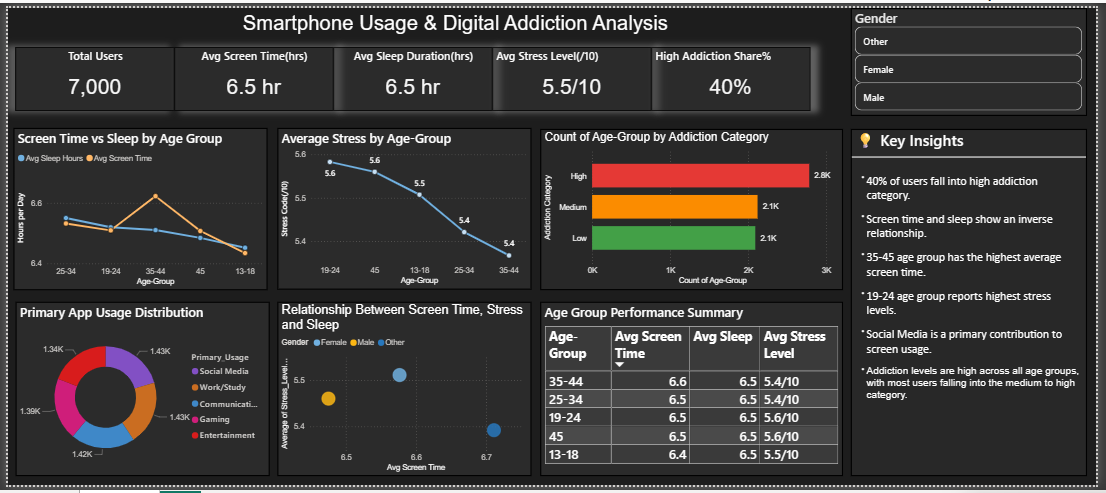

Layout of this report page (visuals, bound fields, positions):
{"tool":"powerbi","page":{"name":"Page 1","canvas":[1711,750],"ordinal":0},"visuals":[{"type":"textbox","box":[10,0,1386.7,61.7],"z":0},{"type":"card","title":"Total Users ","fields":{"Values":["Fact_SmartphoneUsage.Total Users"]},"box":[11.7,61.7,250,100],"z":1000},{"type":"card","title":"Avg Screen Time(hrs)","fields":{"Values":["Fact_SmartphoneUsage.Avg Screen Time"]},"box":[261.7,61.7,250,100],"z":2000},{"type":"card","title":"Avg Sleep Duration(hrs)","fields":{"Values":["Fact_SmartphoneUsage.Avg Sleep Hours"]},"box":[511.7,61.7,250,100],"z":3000},{"type":"card","title":"Avg Stress Level(/10)","fields":{"Values":["Fact_SmartphoneUsage.Avg Stress Level"]},"box":[761.7,61.7,250,100],"z":4000},{"type":"card","title":"High Addiction Share% ","fields":{"Values":["Fact_SmartphoneUsage.High Addiction %"]},"box":[1011.7,61.7,250,100],"z":5000},{"type":"lineChart","title":"Screen Time vs Sleep by Age Group","fields":{"Category":["Fact_SmartphoneUsage.Age-Group"],"Y":["Fact_SmartphoneUsage.Avg Sleep Hours","Fact_SmartphoneUsage.Avg Screen Time"]},"box":[8.3,187.6,400,255.7],"z":6000},{"type":"lineChart","fields":{"Category":["Fact_SmartphoneUsage.Age-Group"],"Y":["Fact_SmartphoneUsage.Avg Strees"]},"box":[423.3,188.3,400,255],"z":7000},{"type":"donutChart","title":"Primary App Usage Distribution","fields":{"Category":["Fact_SmartphoneUsage.Primary_Usage"],"Y":["CountNonNull(Fact_SmartphoneUsage.User_ID)"]},"box":[11.1,461.7,400,275],"z":8000},{"type":"tableEx","title":"Age Group Performance Summary","fields":{"Values":["Fact_SmartphoneUsage.Age-Group","Fact_SmartphoneUsage.Avg Screen Time","Fact_SmartphoneUsage.Avg Sleep Hours","Fact_SmartphoneUsage.Avg Stress Level"]},"box":[836.7,461.7,476.7,275],"z":9000},{"type":"advancedSlicerVisual","fields":{"Values":["Dim_Gender.Gender"]},"box":[1325,0,371.7,170],"z":10000},{"type":"textbox","title":"💡 Key Insights","box":[1325,190,371.7,546.7],"z":11000},{"type":"clusteredBarChart","fields":{"Category":["Fact_SmartphoneUsage.Addiction Category"],"Y":["CountNonNull(Fact_SmartphoneUsage.Age-Group)"]},"box":[836.7,190,476.7,253.3],"z":12000},{"type":"scatterChart","title":"Relationship Between Screen Time, Stress and Sleep","fields":{"X":["Fact_SmartphoneUsage.Avg Screen Time"],"Size":["Avg(Fact_SmartphoneUsage.Sleep_Hours)"],"Series":["Fact_SmartphoneUsage.Gender"],"Y":["Avg(Fact_SmartphoneUsage.Stress_Level_1_10)"]},"box":[423.3,461.7,400,275],"z":13000}]}

Visuals, with their boxes in screenshot pixels (x1, y1, x2, y2), scaled from the page's 1711x750 canvas onto the 1106x493 screenshot:
textbox: 6, 0, 903, 41
"Total Users " card: 8, 41, 169, 106
"Avg Screen Time(hrs)" card: 169, 41, 331, 106
"Avg Sleep Duration(hrs)" card: 331, 41, 492, 106
"Avg Stress Level(/10)" card: 492, 41, 654, 106
"High Addiction Share% " card: 654, 41, 816, 106
"Screen Time vs Sleep by Age Group" lineChart: 5, 123, 264, 291
lineChart - Fact_SmartphoneUsage.Age-Group x Fact_SmartphoneUsage.Avg Strees: 274, 124, 532, 291
"Primary App Usage Distribution" donutChart: 7, 303, 266, 484
"Age Group Performance Summary" tableEx: 541, 303, 849, 484
advancedSlicerVisual - Dim_Gender.Gender: 856, 0, 1097, 112
"💡 Key Insights" textbox: 856, 125, 1097, 484
clusteredBarChart - Fact_SmartphoneUsage.Addiction Category x CountNonNull(Fact_SmartphoneUsage.Age-Group): 541, 125, 849, 291
"Relationship Between Screen Time, Stress and Sleep" scatterChart: 274, 303, 532, 484
